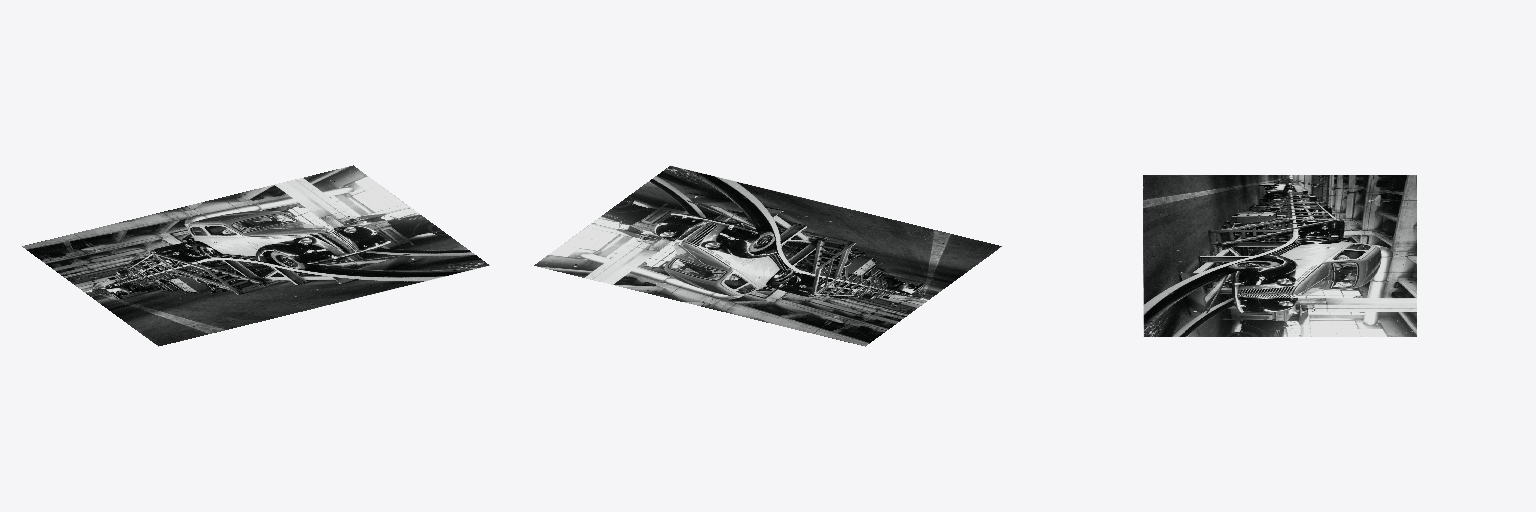
3 views of the same model, side by side, from view 1: azimuth 30°, elevation 25°; view 2: azimuth 150°, elevation 25°; view 3: azimuth 270°, elevation 25° (orthographic).
Visible parts, largest first — view 1: Plane001; view 2: Plane001; view 3: Plane001.
Boxes of the visible parts, box(x1,y1,x2,y2) form: Plane001: box(22, 165, 489, 346); Plane001: box(534, 165, 1001, 346); Plane001: box(1143, 175, 1416, 336).
Bounding box in the file's own units: 5.91 × 0 × 4.22.
1 materials, 1 textured.